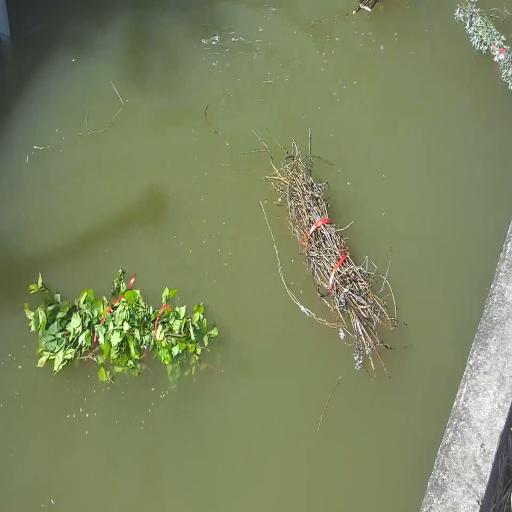twig: (260, 129, 397, 372), (25, 267, 218, 382), (454, 0, 512, 89)
